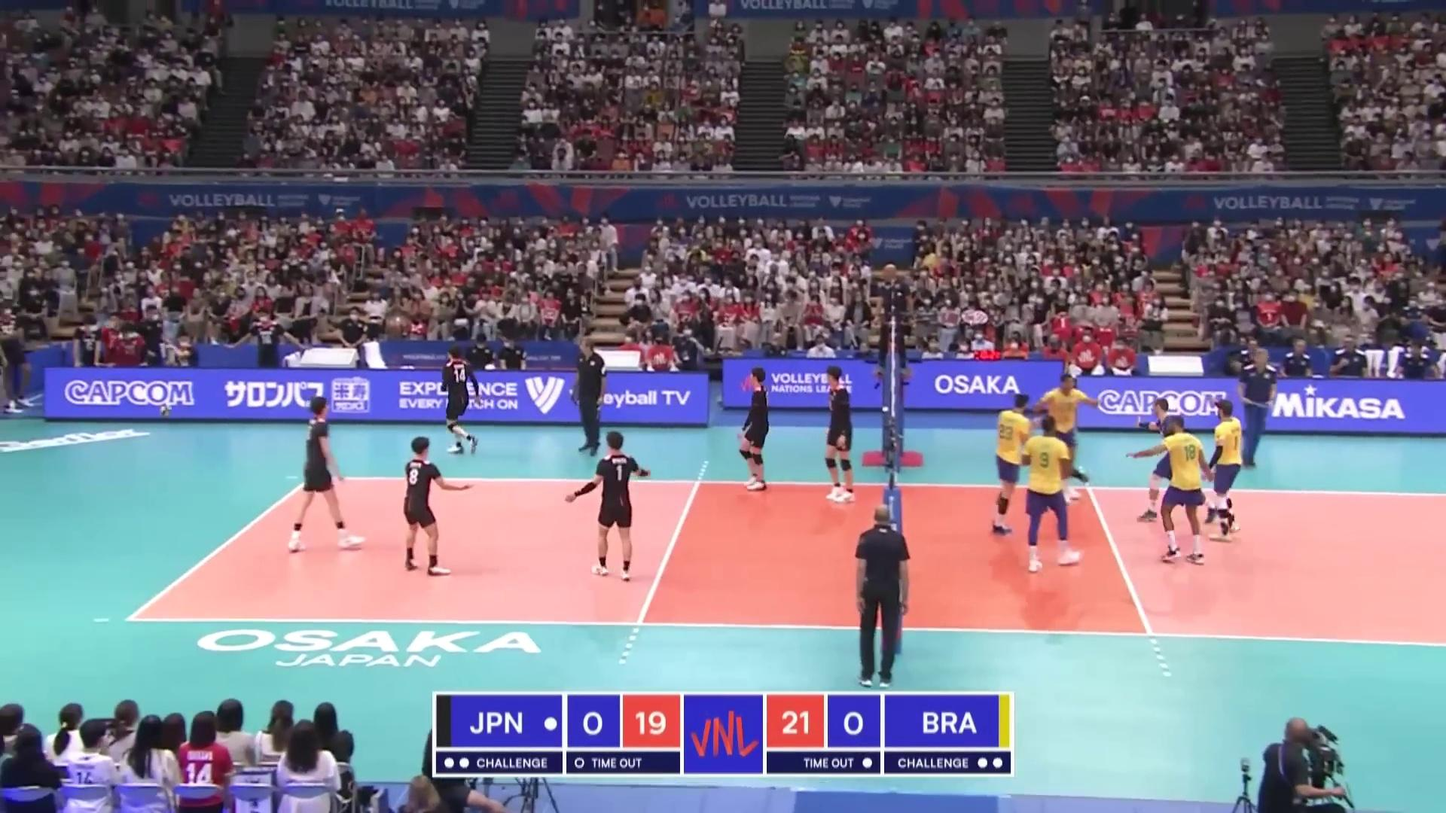player: (571, 431, 651, 579), (290, 399, 365, 555), (1021, 418, 1083, 573), (402, 438, 467, 575), (1149, 416, 1208, 564), (1030, 372, 1092, 499), (1135, 400, 1194, 523), (989, 395, 1033, 535), (1205, 401, 1248, 539), (822, 365, 857, 504), (737, 367, 774, 490), (439, 347, 480, 458)
refree: (849, 509, 907, 681), (876, 263, 912, 384)
